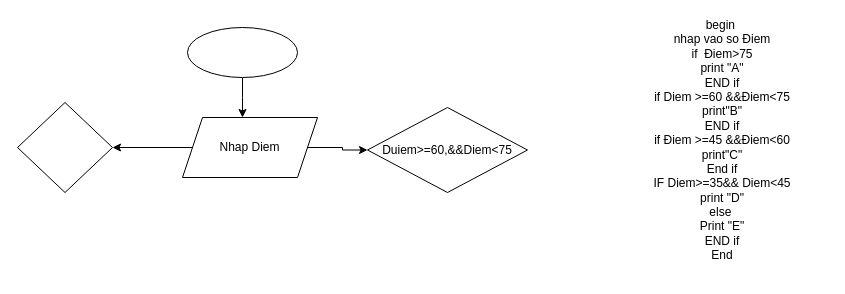
This 845x294 diagram has some shape labels left out. The shapes that lost their labels are listed below. From the top down, each one's centre as x and y in pixels, then its label:
At point 242,52: "Begin".
At point 64,147: "Diem >75".
